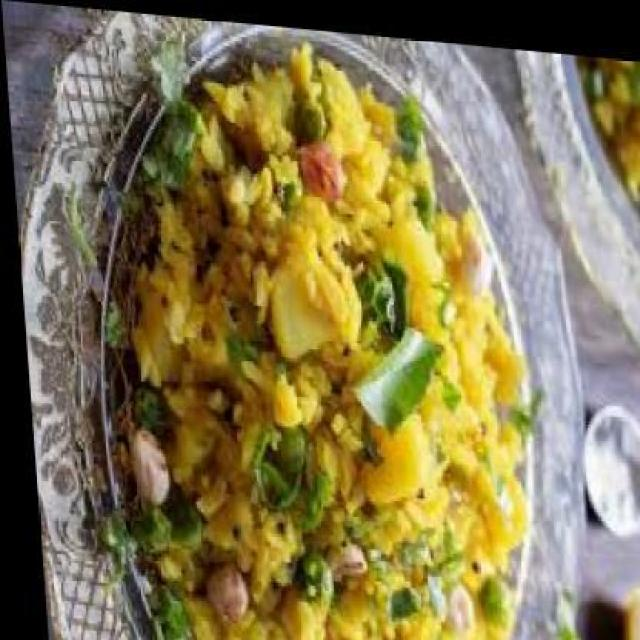poha: (98, 21, 538, 640)
